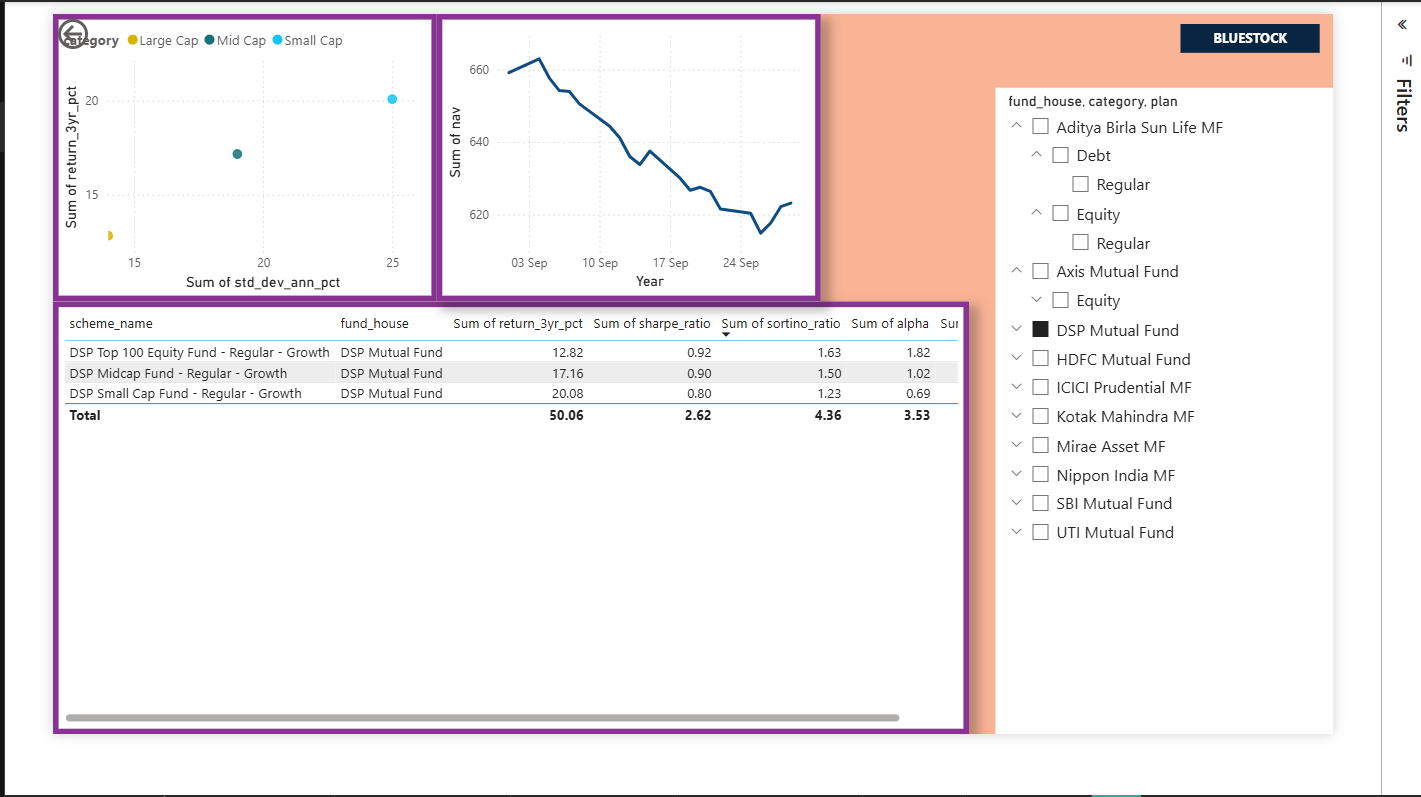

The dashboard page shown, as its layout file describes it:
{"tool":"powerbi","page":{"name":"Fund Performance","canvas":[1280,720],"ordinal":1},"visuals":[{"type":"scatterChart","fields":{"Y":["Sum(scheme_performance_clean.return_3yr_pct)"],"X":["Sum(scheme_performance_clean.std_dev_ann_pct)"],"Series":["scheme_performance_clean.category"],"Category":["scheme_performance_clean.aum_crore"]},"box":[0,0,383.7,287.2],"z":0},{"type":"tableEx","fields":{"Values":["fund_master_clean.scheme_name","fund_master_clean.fund_house","Sum(scheme_performance_clean.return_3yr_pct)","Sum(scheme_performance_clean.sharpe_ratio)","Sum(scheme_performance_clean.sortino_ratio)","Sum(scheme_performance_clean.alpha)","Sum(scheme_performance_clean.beta)"]},"box":[0,287.2,916.3,432.6],"z":1000},{"type":"actionButton","box":[0,0,100,40],"z":2000},{"type":"lineChart","fields":{"Y":["Sum(nav_history_clean.nav)"],"Category":["nav_history_clean.date.Variation.Date Hierarchy.Year","nav_history_clean.date.Variation.Date Hierarchy.Quarter","nav_history_clean.date.Variation.Date Hierarchy.Month","nav_history_clean.date.Variation.Date Hierarchy.Day"]},"box":[383.7,0,383.7,287.2],"z":3000},{"type":"slicer","fields":{"Values":["fund_master_clean.fund_house","fund_master_clean.category","fund_master_clean.plan"]},"box":[943,73.3,337.2,646.5],"z":4000},{"type":"textbox","box":[1127.9,10.5,139.5,29.1],"z":5000}]}

Visuals, with their boxes on the page's 1280x720 design canvas (x1, y1, x2, y2). These are canvas units, not pixel positions in the 1421x797 screenshot, which may show the page scaled, cropped or inside an application window:
scatterChart - Sum(scheme_performance_clean.return_3yr_pct) x Sum(scheme_performance_clean.std_dev_ann_pct): [left=0, top=0, right=384, bottom=287]
tableEx - fund_master_clean.scheme_name x fund_master_clean.fund_house: [left=0, top=287, right=916, bottom=720]
actionButton: [left=0, top=0, right=100, bottom=40]
lineChart - Sum(nav_history_clean.nav) x nav_history_clean.date.Variation.Date Hierarchy.Year: [left=384, top=0, right=767, bottom=287]
slicer - fund_master_clean.fund_house x fund_master_clean.category: [left=943, top=73, right=1280, bottom=720]
textbox: [left=1128, top=10, right=1267, bottom=40]
